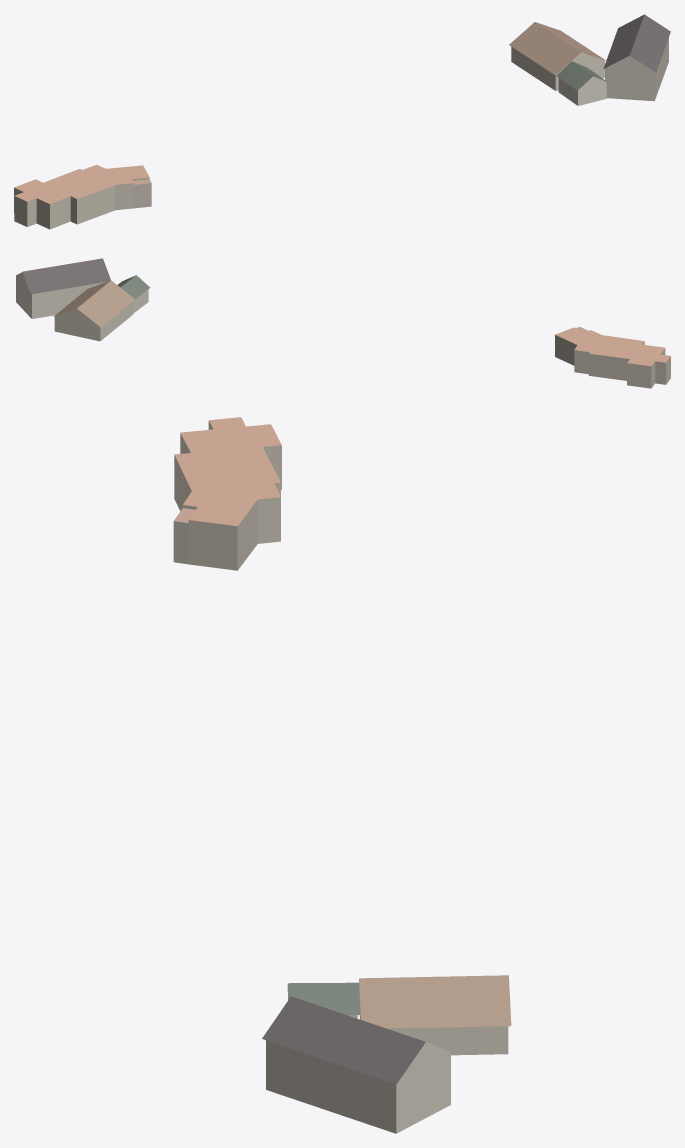
3 renders of one model, top to bottom at view 1: azimuth 30°, elevation 25°; view 2: azimuth 150°, elevation 25°; view 3: azimuth 270°, elevation 25°, orthographic. The views are drawn at different scales.
Visible parts, largest first — view 1: tuile; view 2: tuile; view 3: tuile.
Part boxes in pixels (x1,y1,x2,y2): tuile: [14, 14, 670, 229]; tuile: [16, 258, 670, 388]; tuile: [173, 417, 511, 1133].
Size of the model in its own units: 170 by 15.89 by 40.53.
